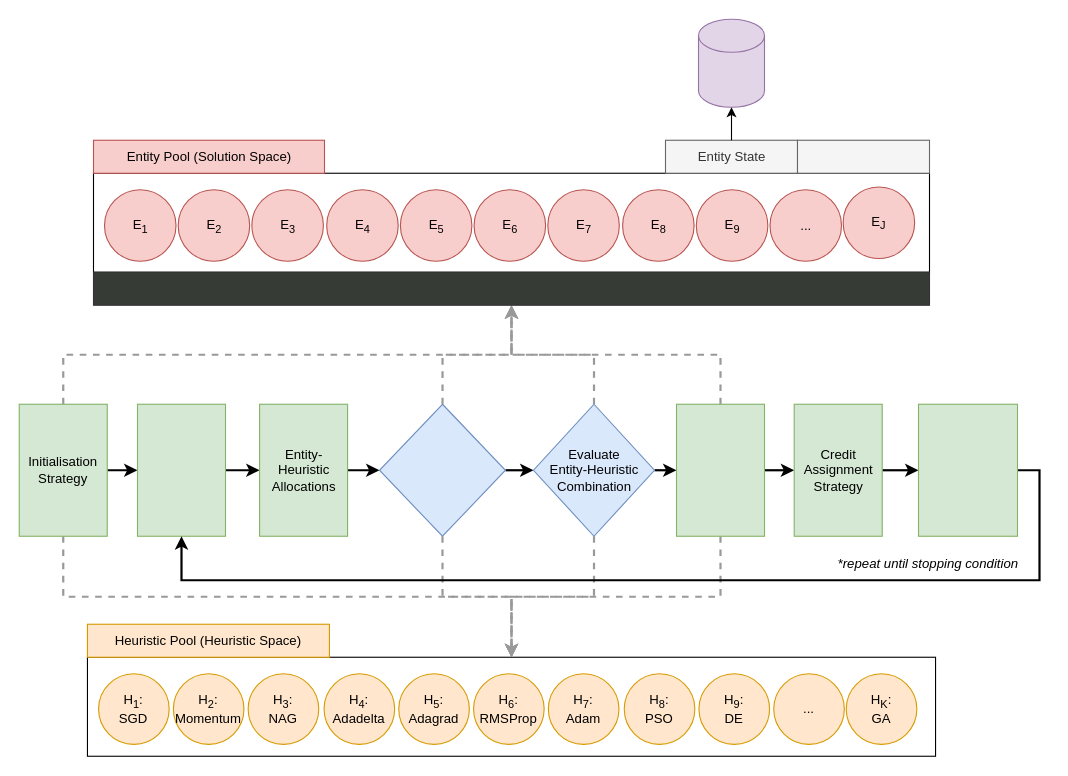
The diagram is 1068 pixels wide and 776 high, and some of its shapes have lost their labels. The centre of each missing label's shape, as x and y in pixels:
Apply Heuristics to Entities: [441,469]
Domain Barrier: [511,288]
High Level Heuristic / Optimiser (MAP/Bayesian Analysis): [967,469]
Model: [731,62]
Performance Log: [720,469]
Population State: [863,156]
Selection Mechanism: [181,469]
